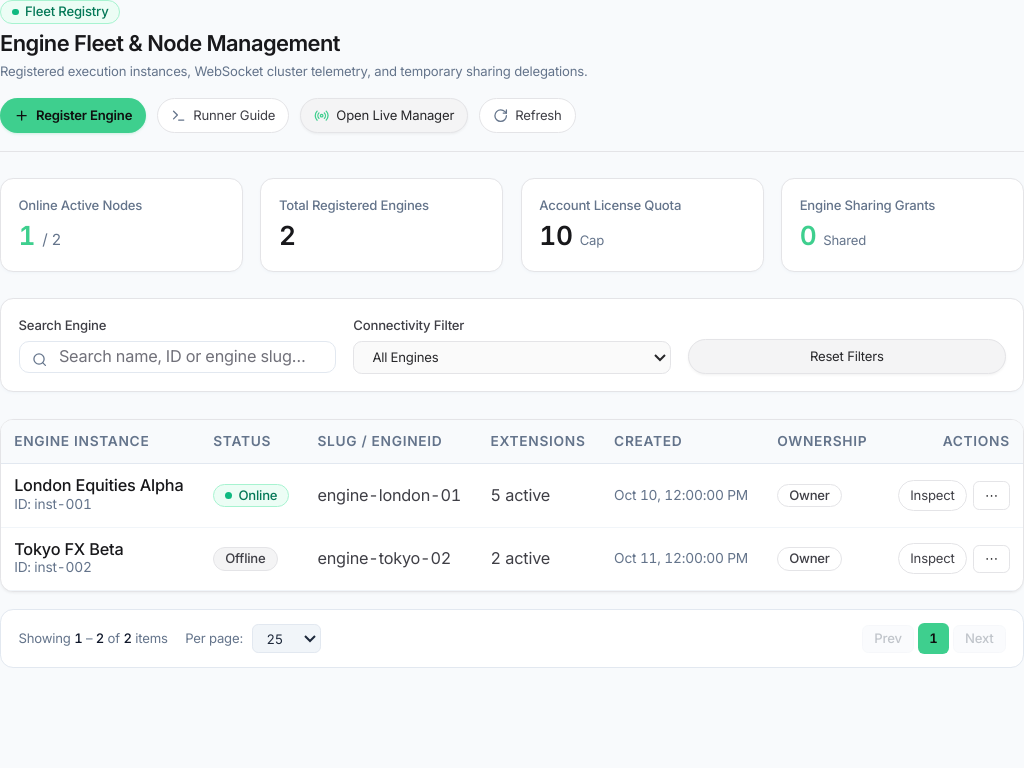
Test case: Panel Instances Page (Engine Fleet & Node Management) › opens and closes registration modal from panel instances
Expected: the link "London Equities Alpha" is shown, [14,477,187,495]
What coordinates should you click on to do the following:
click the button "Register Engine"
I would click on:
 (73, 116)
Its box is [0,98,146,133].
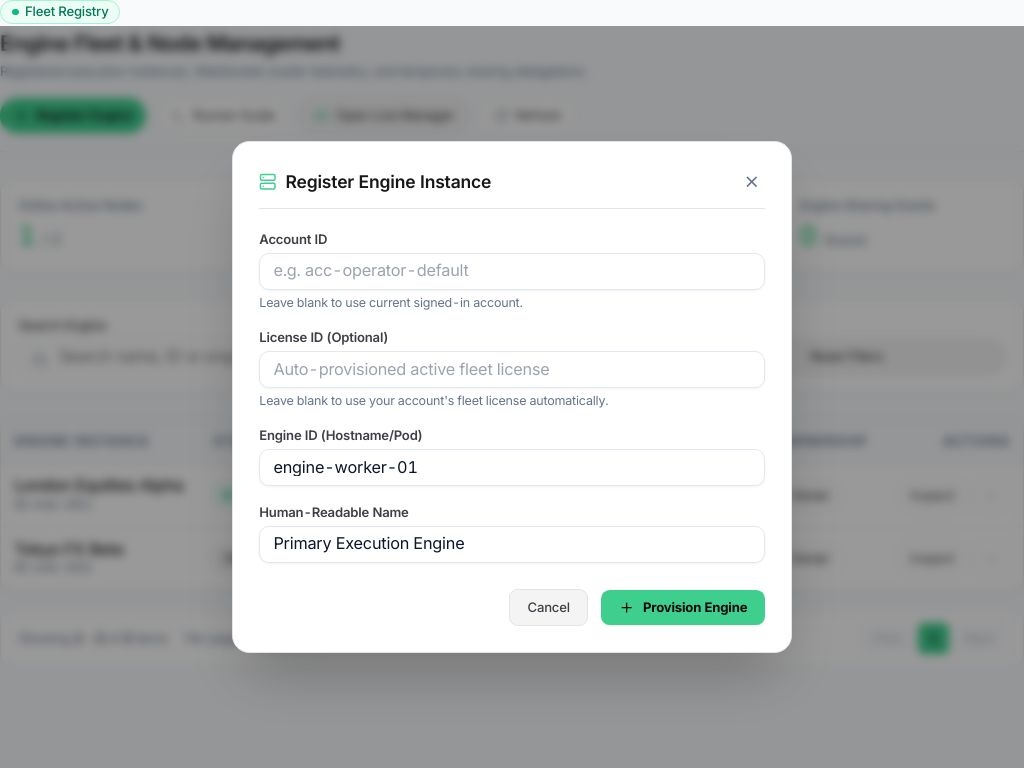
Now the text "Register Engine Instance" is shown, box [286,168,491,195]
Now the field labelled "Human-Readable Name" is shown, box [259,526,765,562]
What coordinates should you click on to do the following:
click the button "Cancel"
I would click on:
 (549, 607)
Its box is [509,589,588,626].
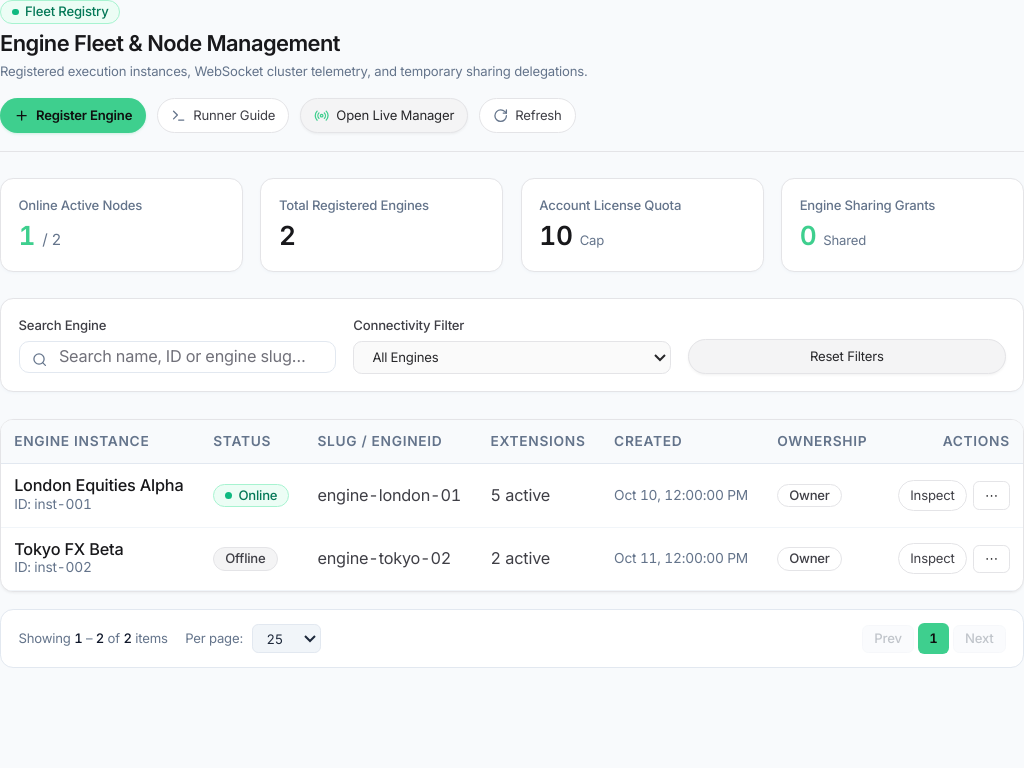
Now the text "Register Engine Instance" is gone
